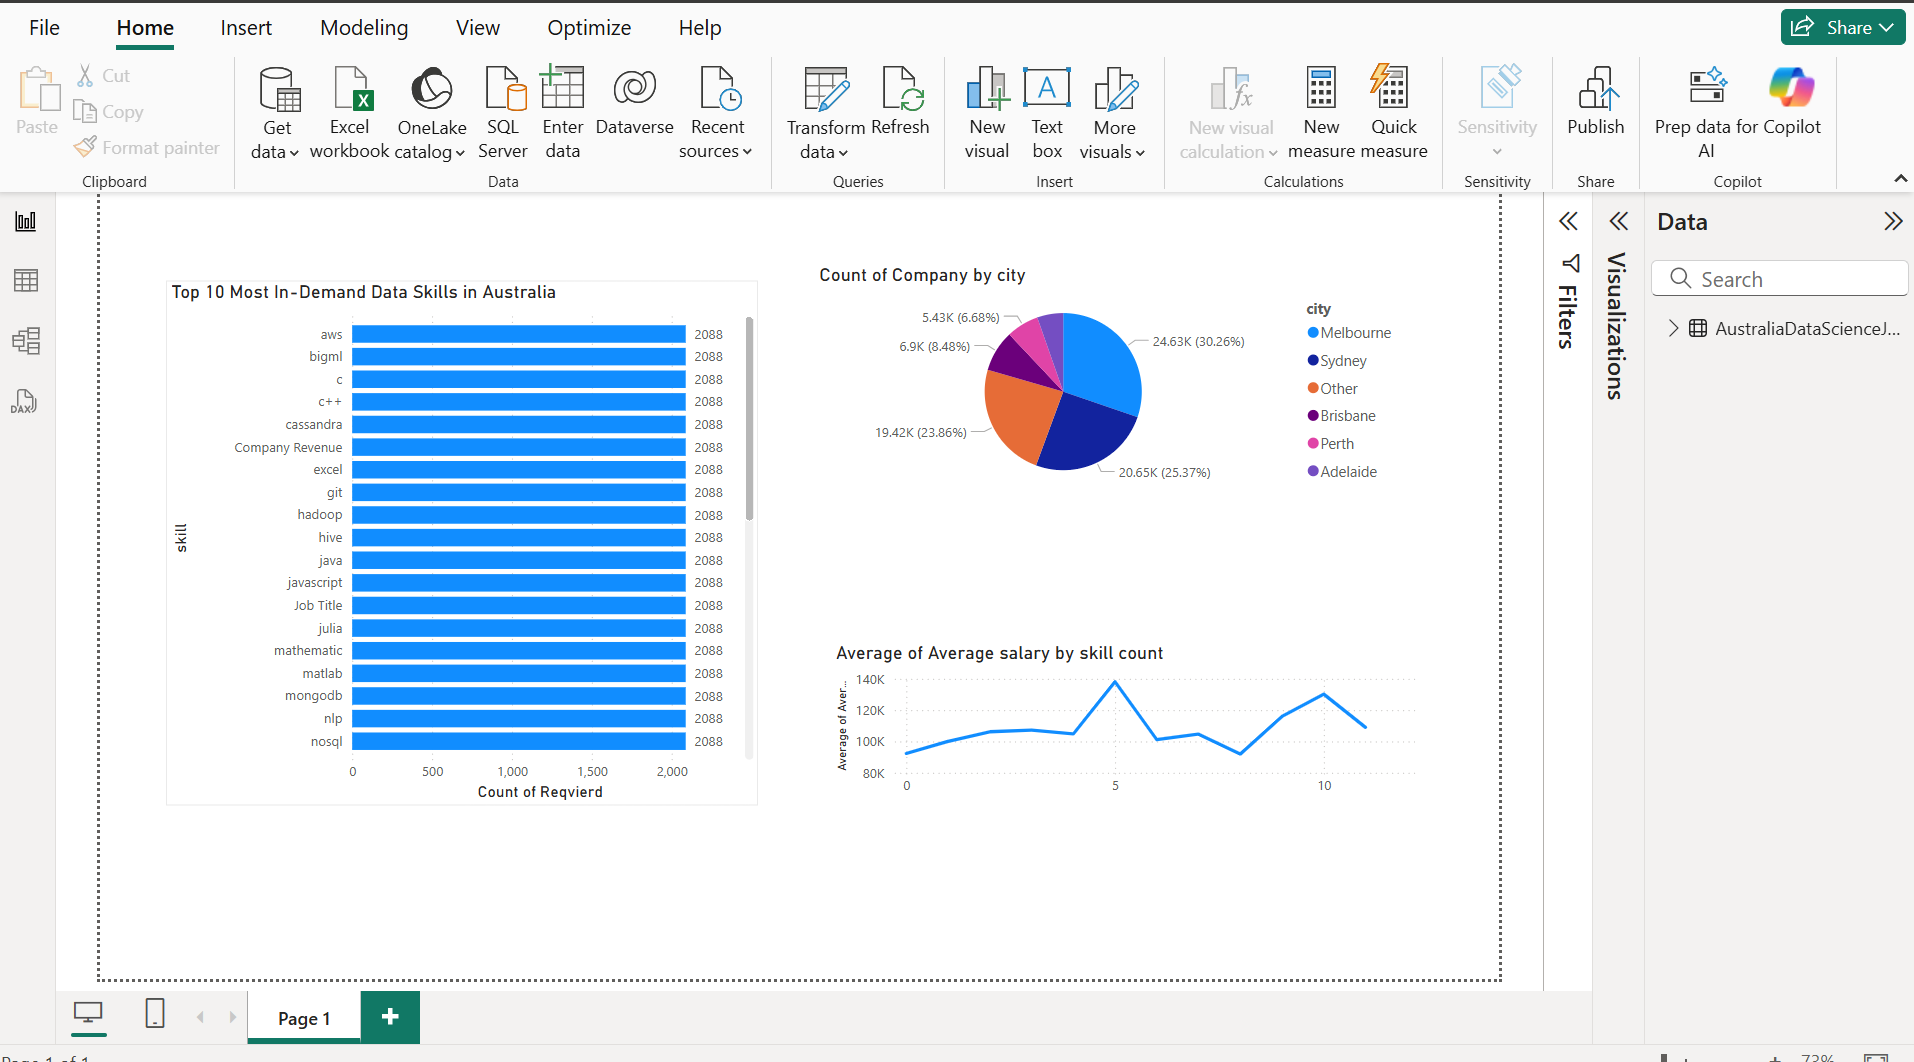

This screenshot's page, from the dashboard's own definition file:
{"tool":"powerbi","page":{"name":"Page 1","canvas":[1280,720],"ordinal":0},"visuals":[{"type":"clusteredBarChart","title":"Top 10 Most In-Demand Data Skills in Australia","fields":{"Category":["AustraliaDataScienceJobs.skill"],"Y":["CountNonNull(AustraliaDataScienceJobs.Reqvierd)"]},"box":[60.5,81.3,542.4,480],"z":0},{"type":"pieChart","fields":{"Category":["AustraliaDataScienceJobs.city"],"Y":["CountNonNull(AustraliaDataScienceJobs.Company)"]},"box":[653.9,66.1,542.4,213.5],"z":1000},{"type":"lineChart","fields":{"Category":["AustraliaDataScienceJobs.skill count "],"Y":["Avg(AustraliaDataScienceJobs.Average salary)"]},"box":[669,412,542.4,149.3],"z":2000}]}

Visuals, with their boxes on the page's 1280x720 design canvas (x1, y1, x2, y2). These are canvas units, not pixel positions in the 1914x1062 screenshot, which may show the page scaled, cropped or inside an application window:
"Top 10 Most In-Demand Data Skills in Australia" clusteredBarChart: 60,81,603,561
pieChart - AustraliaDataScienceJobs.city x CountNonNull(AustraliaDataScienceJobs.Company): 654,66,1196,280
lineChart - AustraliaDataScienceJobs.skill count  x Avg(AustraliaDataScienceJobs.Average salary): 669,412,1211,561
